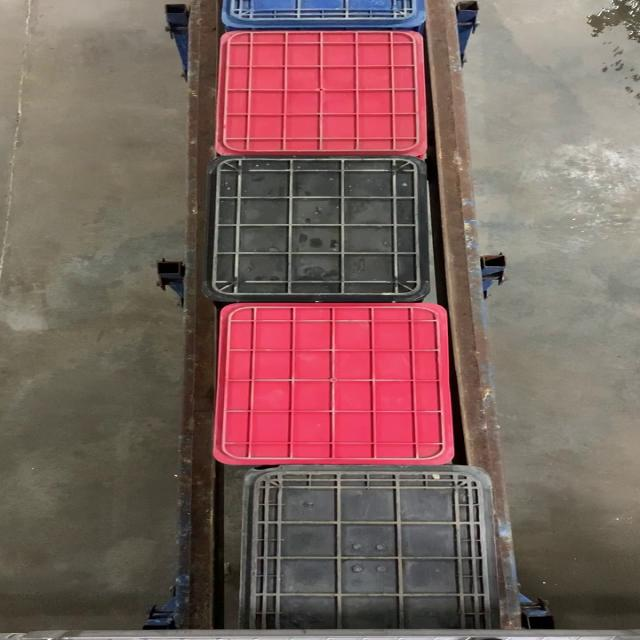Box: (212, 302, 457, 464), (202, 156, 430, 302), (210, 30, 429, 156)
